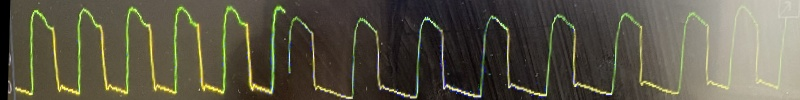normal_pressure: (5, 2, 780, 100)
